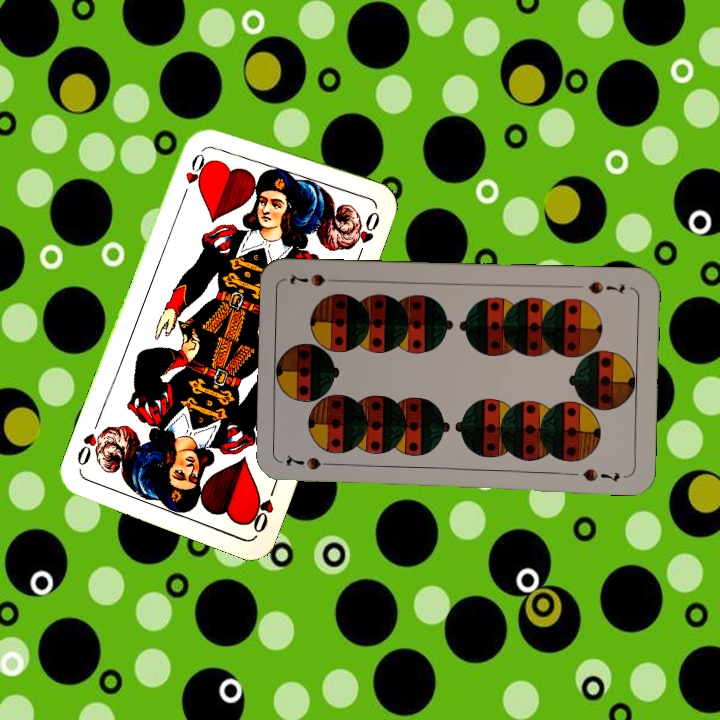HO: (244, 479, 279, 536), (179, 142, 212, 199)
S7: (282, 451, 339, 473), (584, 277, 628, 297)
